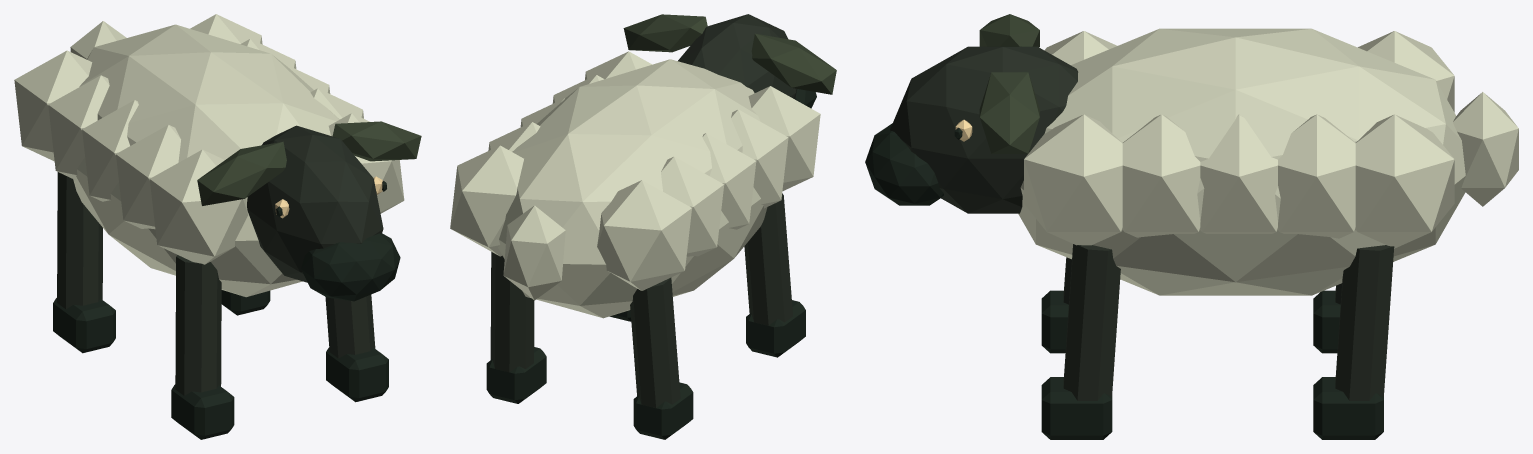
The model's file is grazer.obj.
3 views of the same model, side by side, from view 1: azimuth 30°, elevation 25°; view 2: azimuth 150°, elevation 25°; view 3: azimuth 270°, elevation 25° (orthographic). The views are drawn at different scales.
Parts seen in each view (by area): view 1: grazer; view 2: grazer; view 3: grazer.
Boxes of the visible parts, x1=… form: grazer: x1=14, y1=14, x2=421, y2=439; grazer: x1=450, y1=14, x2=836, y2=439; grazer: x1=865, y1=14, x2=1518, y2=439.
Size of the model in its own units: 0.8999 by 1.1 by 1.85.
Materials: 1 (1 with a texture image).
